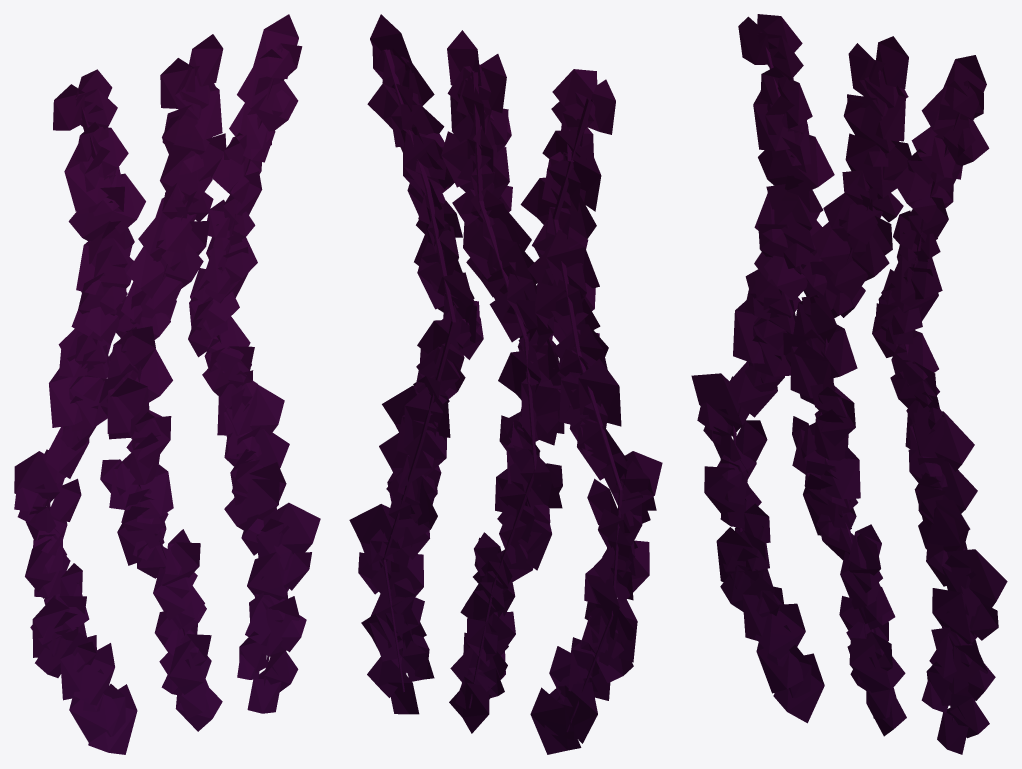
File: vines_1.glb
3 renders of one model, left to right at view 1: azimuth 30°, elevation 25°; view 2: azimuth 150°, elevation 25°; view 3: azimuth 330°, elevation 25°, orthographic.
Parts seen in each view (by area): view 1: vines_1; view 2: vines_1; view 3: vines_1.
Boxes of the visible parts, left/top/right/bottom form: vines_1: left=14, top=14, right=320, bottom=754; vines_1: left=349, top=14, right=662, bottom=754; vines_1: left=691, top=14, right=1007, bottom=754.
Bounding box in the file's own units: 1.2 × 2.6 × 0.07.
